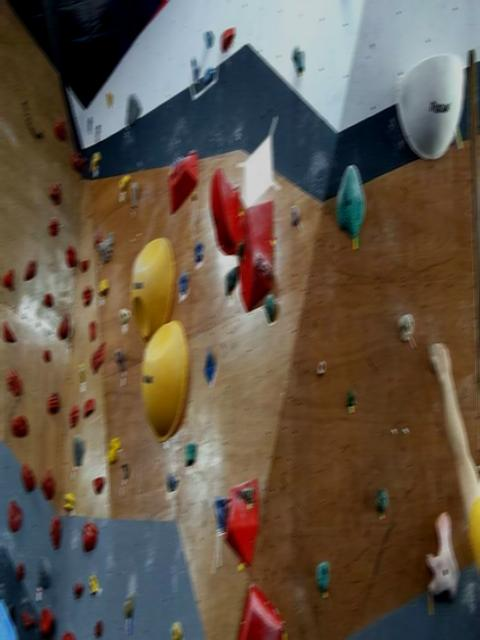crimp: (254, 251, 270, 276), (225, 266, 238, 296), (194, 240, 203, 269), (185, 443, 196, 466), (167, 472, 178, 491), (92, 476, 104, 493), (241, 487, 252, 505), (64, 493, 74, 510), (120, 308, 129, 324)
jib: (345, 390, 355, 405), (317, 360, 325, 374), (42, 349, 50, 360)
jug: (336, 165, 364, 248), (126, 93, 141, 126), (263, 292, 276, 323), (291, 45, 303, 76), (398, 315, 413, 339), (130, 181, 138, 209)
ledge: (395, 53, 464, 159), (141, 321, 187, 441), (209, 166, 244, 253), (236, 583, 285, 639), (168, 150, 198, 214), (90, 342, 104, 373)
pinch: (220, 28, 234, 52)
sidepull: (213, 496, 226, 531), (106, 437, 120, 464), (178, 272, 187, 294)
tape: (210, 536, 221, 574), (452, 126, 462, 150), (427, 589, 432, 615), (348, 405, 354, 414), (353, 236, 357, 249), (323, 590, 326, 597)
